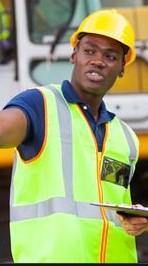hat: (70, 1, 148, 105)
vest: (4, 84, 138, 266)
